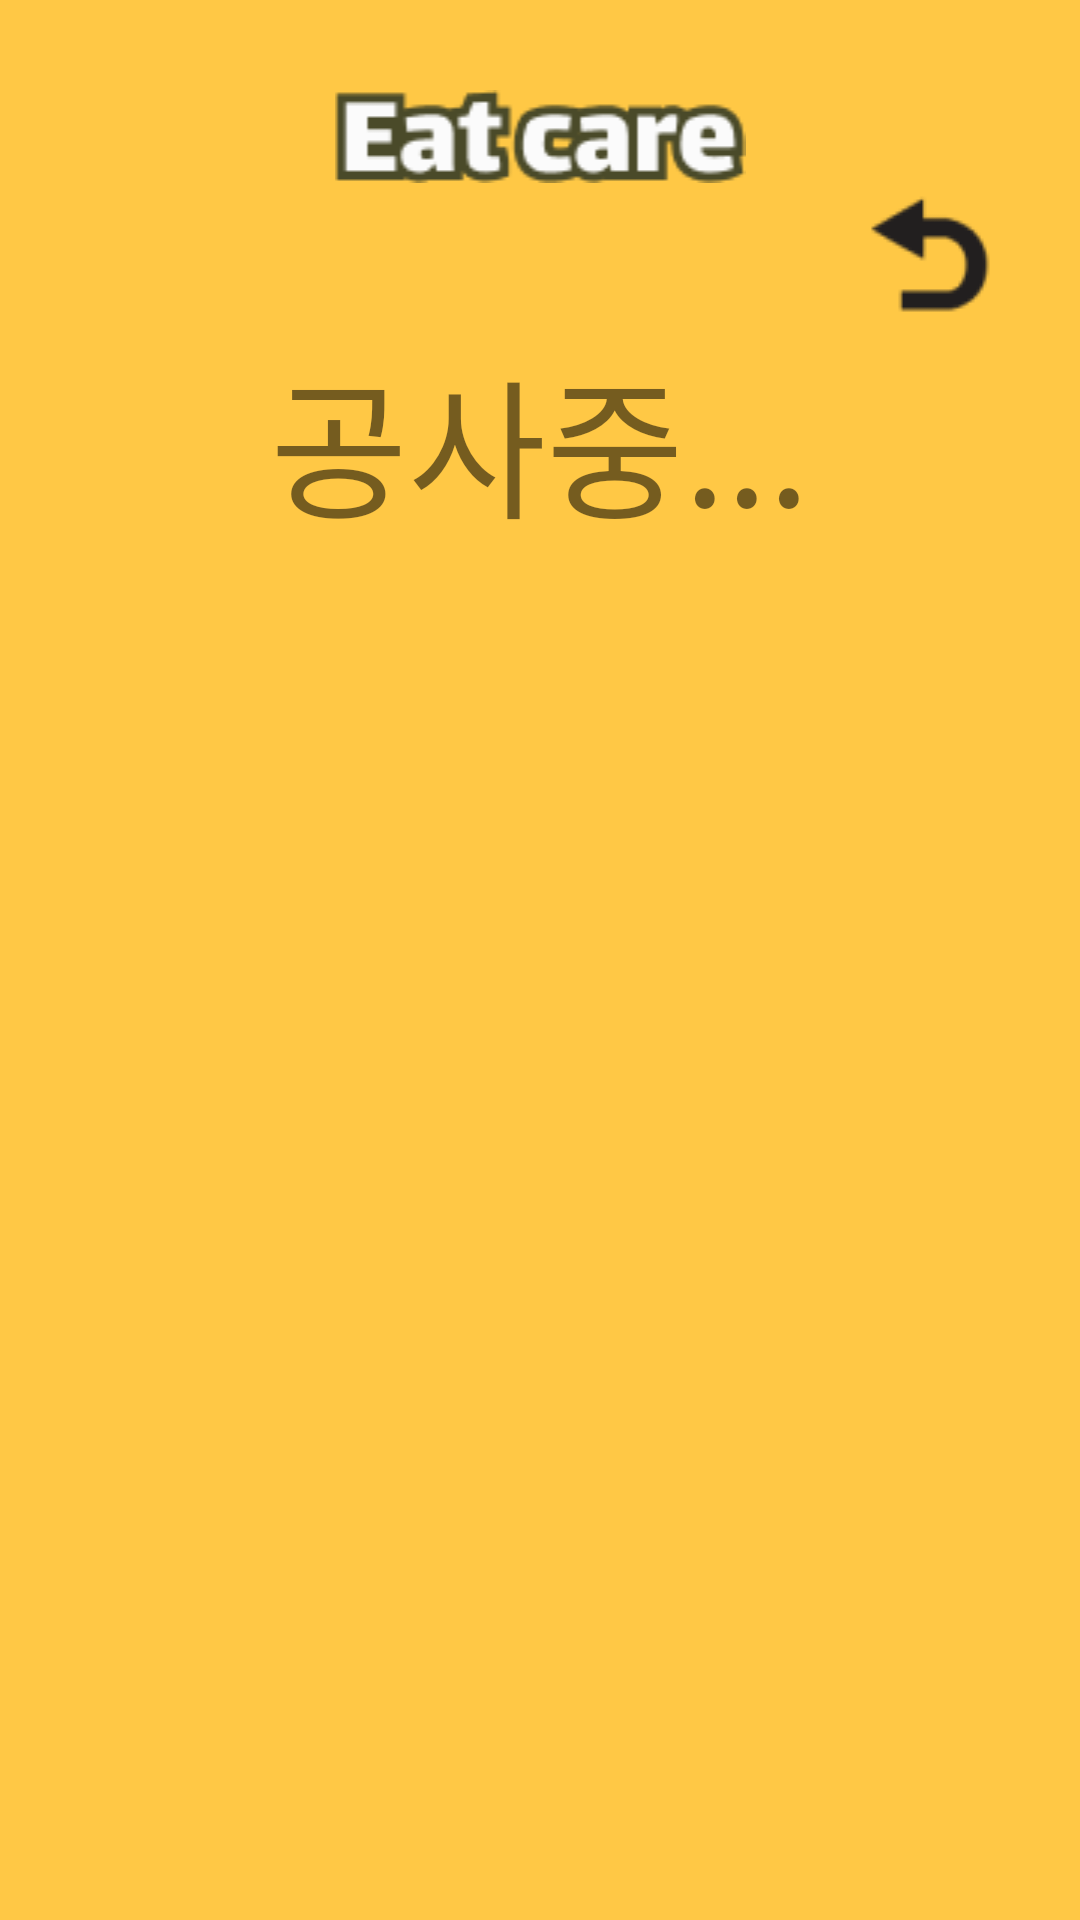

Icon bounding boxes for this 1080x1920 phone screenshot, format [left=x1, top=y1, right=x2, bottom=y2]:
back: [left=871, top=198, right=990, bottom=312]
